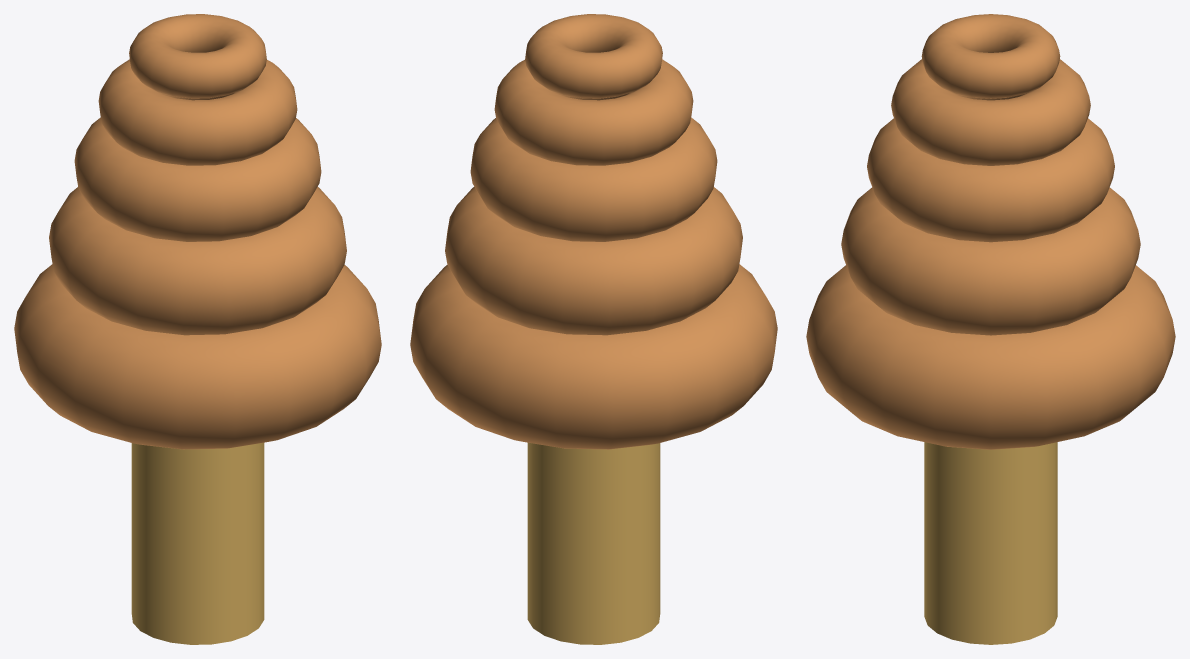
The model's file is donuts_laranja.fbx.
The picture shows the model from 3 angles, left to right: view 1: azimuth 30°, elevation 25°; view 2: azimuth 150°, elevation 25°; view 3: azimuth 270°, elevation 25°; orthographic projection.
Visible parts, largest first — view 1: pTorus24, pTorus23, arvore12, pTorus25, pTorus21, pTorus22; view 2: pTorus24, pTorus23, arvore12, pTorus25, pTorus21, pTorus22; view 3: pTorus24, pTorus23, arvore12, pTorus25, pTorus21, pTorus22.
Part boxes in pixels (x1,y1,x2,y2): pTorus24: (14,264,381,449); pTorus23: (49,187,346,335); arvore12: (131,442,264,644); pTorus25: (74,117,321,241); pTorus21: (98,59,297,165); pTorus22: (129,14,266,98); pTorus24: (410,264,777,449); pTorus23: (445,187,742,335); arvore12: (527,442,660,644); pTorus25: (470,117,717,241); pTorus21: (494,59,693,165); pTorus22: (525,14,662,98); pTorus24: (806,265,1175,449); pTorus23: (841,187,1140,335); arvore12: (924,442,1057,644); pTorus25: (867,118,1114,242); pTorus21: (891,59,1090,165); pTorus22: (921,14,1060,98).
Size of the model in its own units: 1.57 by 2.73 by 1.57.
